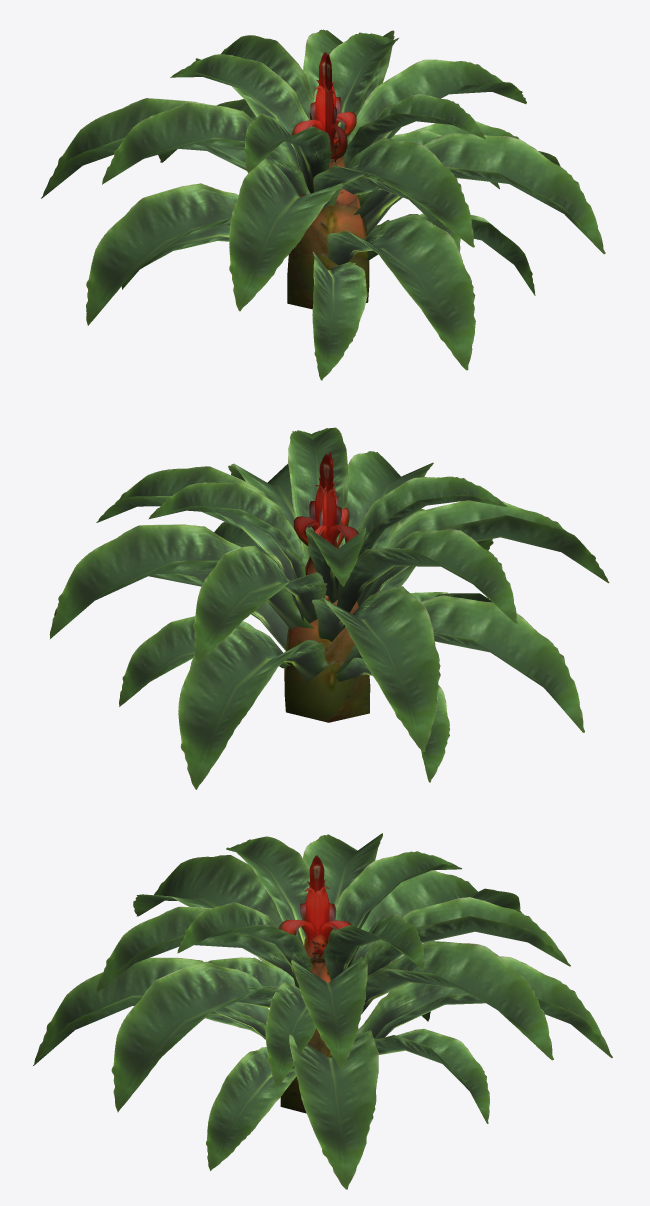
File: plant1.FBX
3 views of the same model, one above another, from view 1: azimuth 30°, elevation 25°; view 2: azimuth 150°, elevation 25°; view 3: azimuth 270°, elevation 25° (orthographic). The views are drawn at different scales.
Visible parts, largest first — view 1: plant1; view 2: plant1; view 3: plant1.
Part boxes in pixels (x1,y1,x2,y2): plant1: [41, 29, 605, 380]; plant1: [49, 427, 609, 789]; plant1: [33, 833, 612, 1189].
Bounding box in the file's own units: 16.78 × 7.4 × 16.93.
